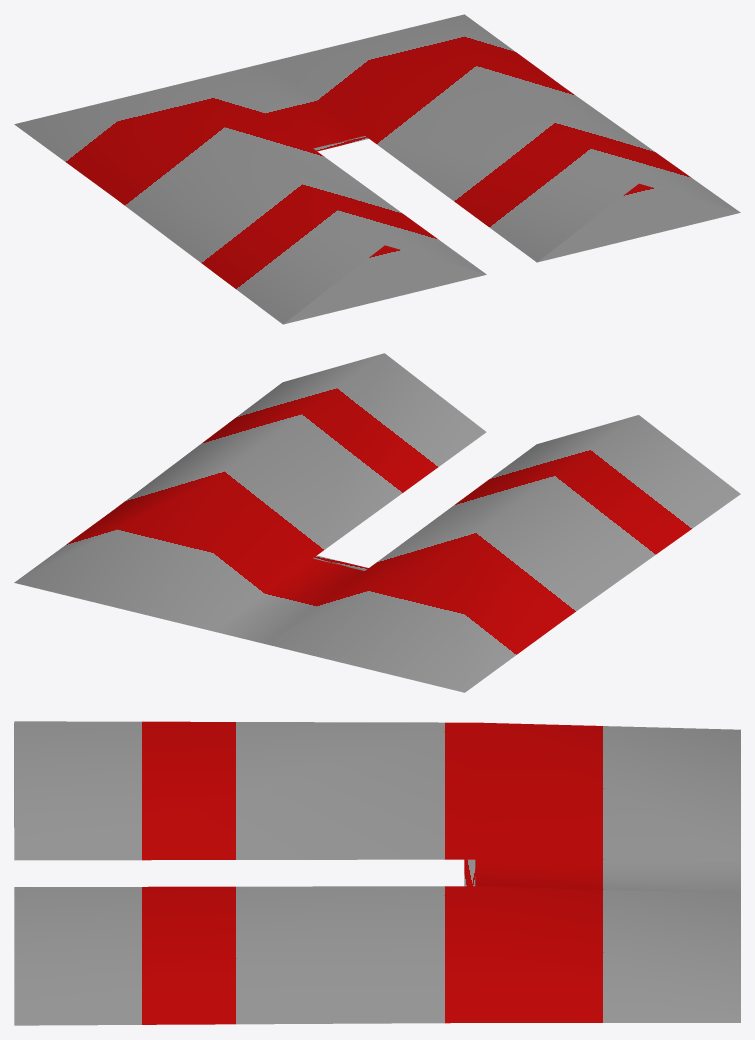
The model's file is 2088pants000_c.gltf.
3 renders of one model, top to bottom at view 1: azimuth 30°, elevation 25°; view 2: azimuth 150°, elevation 25°; view 3: azimuth 270°, elevation 25°, orthographic. The views are drawn at different scales.
Visible parts, largest first — view 1: 2088pants000_c; view 2: 2088pants000_c; view 3: 2088pants000_c.
Part boxes in pixels (x1,y1,x2,y2): 2088pants000_c: (14,14,740,324); 2088pants000_c: (14,353,740,692); 2088pants000_c: (14,721,740,1025).
Bounding box in the file's own units: 0.7793 × 0.0884 × 0.803.
1 material, 1 textured.
